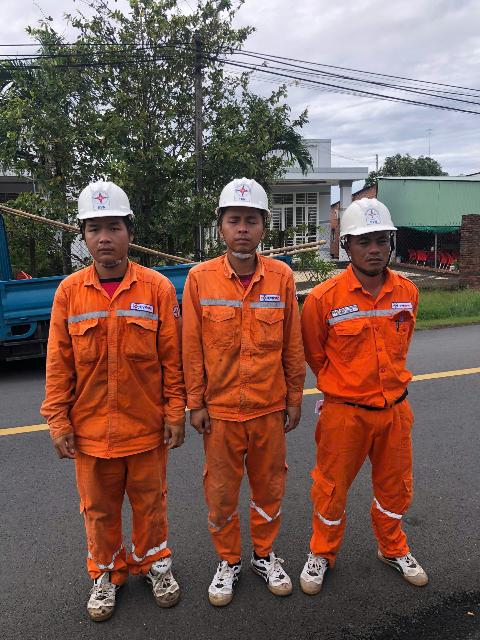helmet: (70, 178, 145, 228), (333, 197, 411, 244), (212, 173, 274, 224)
shoes: (373, 544, 437, 593), (248, 542, 297, 604), (137, 553, 186, 612), (87, 558, 122, 626), (204, 545, 242, 606), (298, 541, 332, 598)
